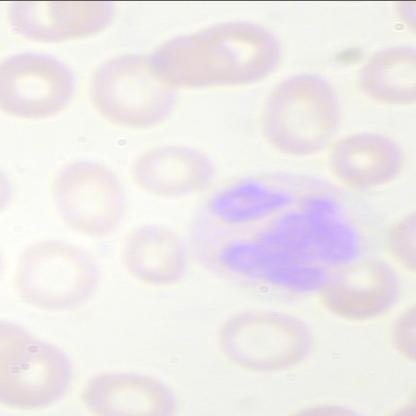RBC: (210, 306, 322, 380), (92, 49, 184, 135), (13, 233, 104, 316), (46, 153, 137, 235), (263, 70, 339, 156), (1, 332, 77, 414), (1, 49, 80, 125), (324, 127, 412, 192), (320, 256, 408, 321), (197, 20, 285, 85), (120, 212, 194, 289), (131, 139, 223, 199), (75, 368, 183, 415), (347, 42, 415, 109)
WBC: (178, 162, 378, 302)
